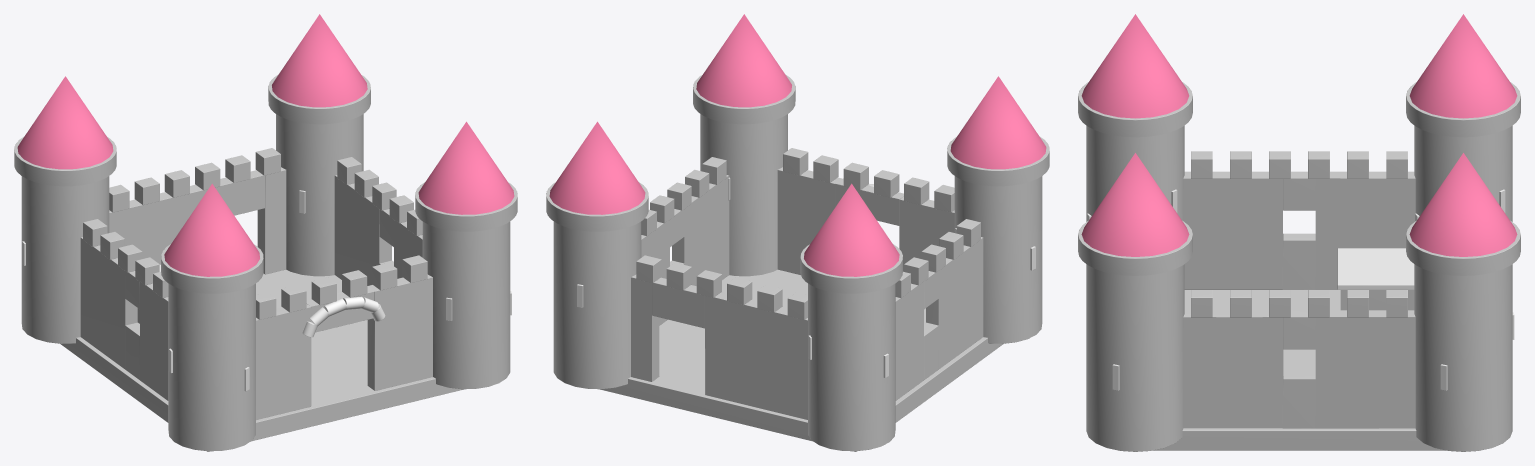
The model's file is castle.glb.
3 views of the same model, side by side, from view 1: azimuth 30°, elevation 25°; view 2: azimuth 150°, elevation 25°; view 3: azimuth 270°, elevation 25° (orthographic). The views are drawn at different scales.
Visible parts, largest first — view 1: castle.001; view 2: castle.001; view 3: castle.001.
Part boxes in pixels (x1,y1,x2,y2): castle.001: (14,14,517,451); castle.001: (546,14,1049,451); castle.001: (1078,14,1520,451).
Size of the model in its own units: 32.4 by 23.6 by 32.4.
